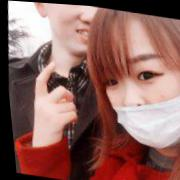NONE: (44, 3, 114, 60)
WRONG: (85, 28, 180, 152)
